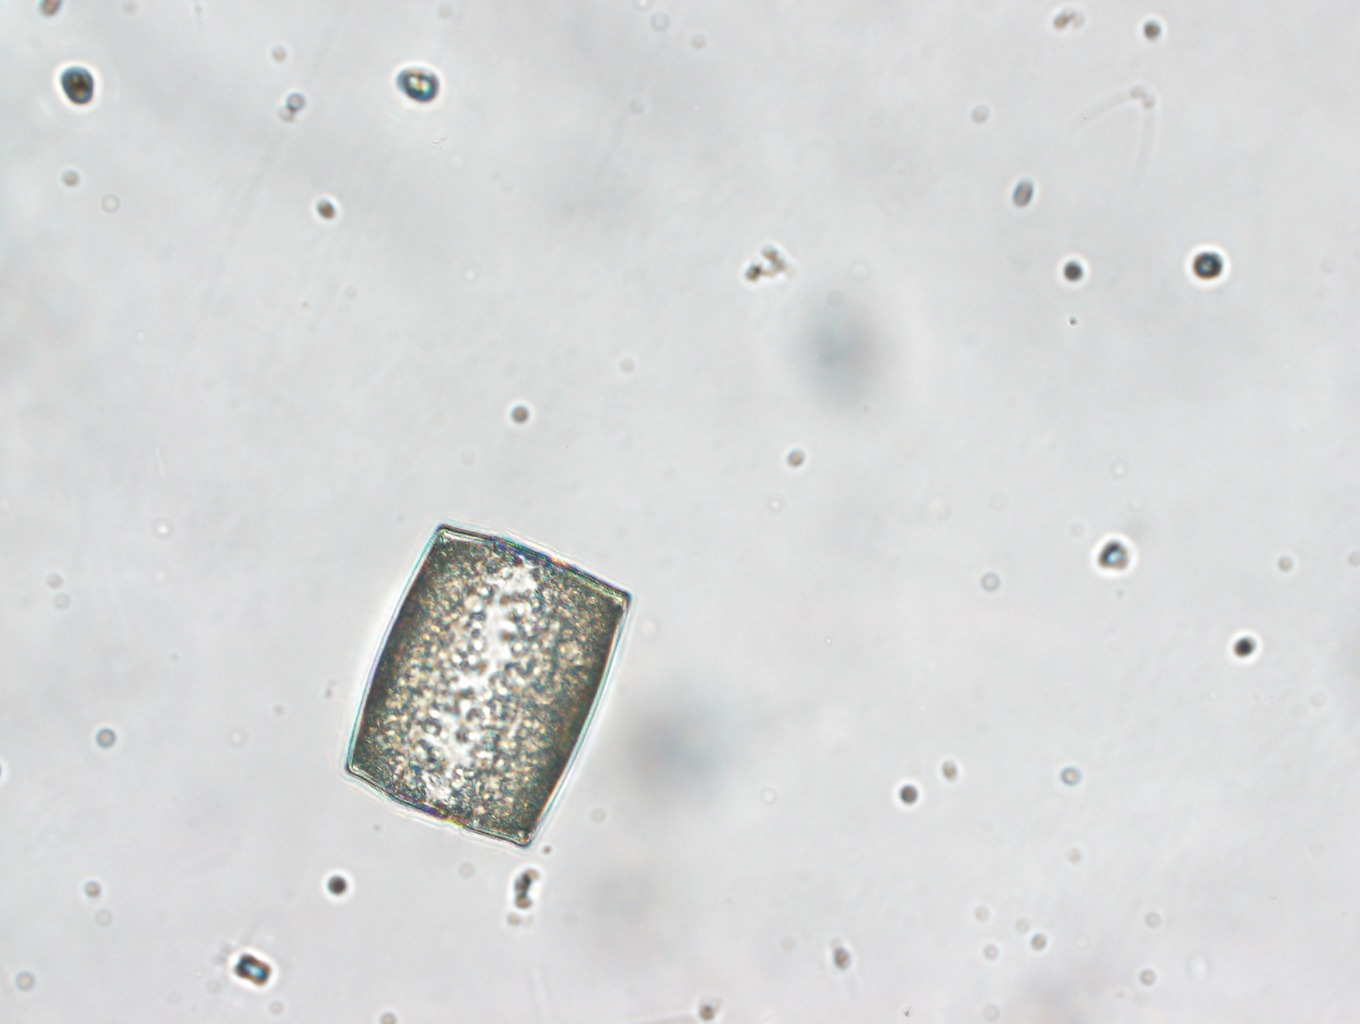coscinodiscus flank: (334, 511, 636, 856)
